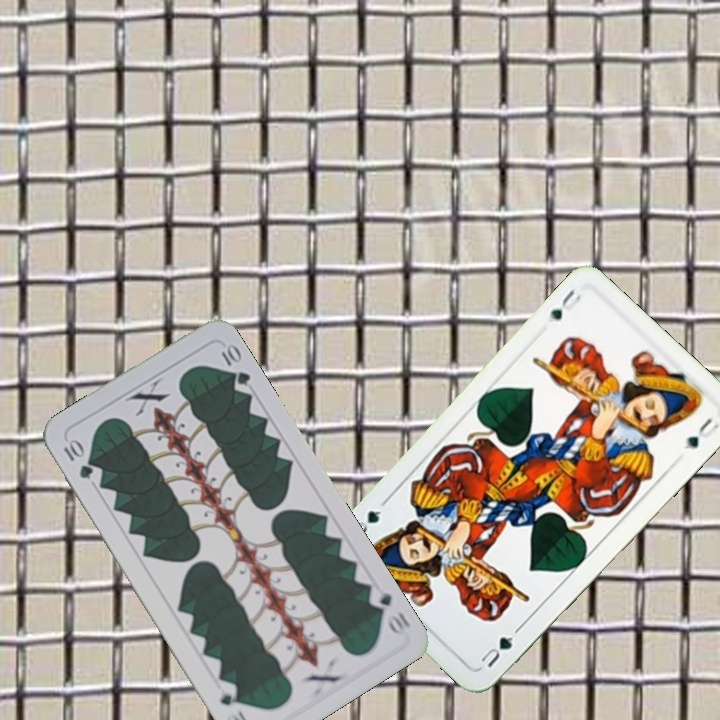G10: (364, 588, 414, 637), (59, 435, 96, 482)
GU: (476, 624, 522, 671), (543, 284, 584, 325)
